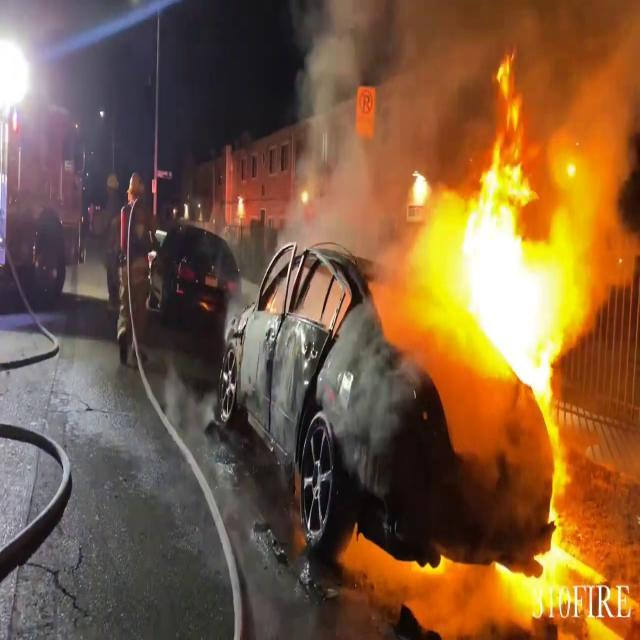Fire: (414, 87, 608, 412)
Smoke: (287, 0, 458, 260)
